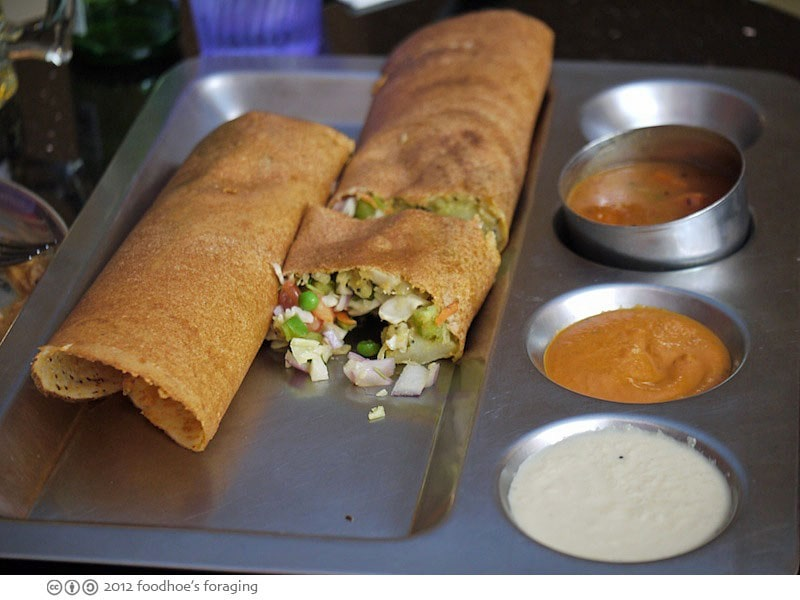dosa: (32, 9, 558, 451)
